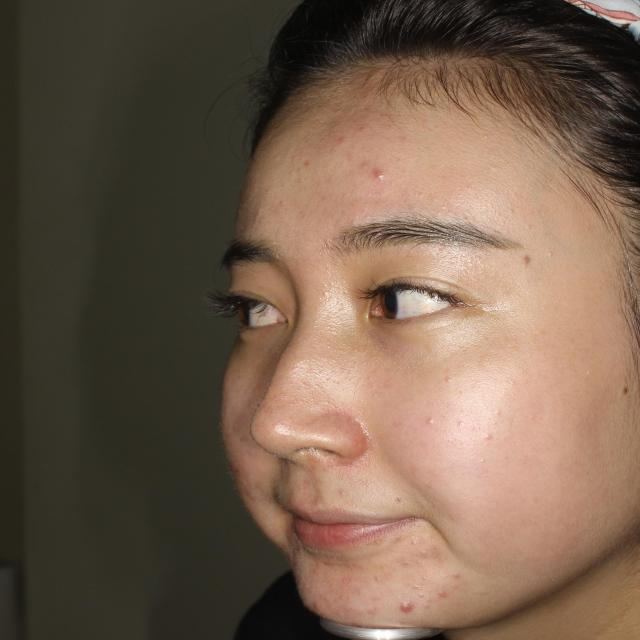comedone: (350, 158, 398, 187), (388, 594, 434, 620)
